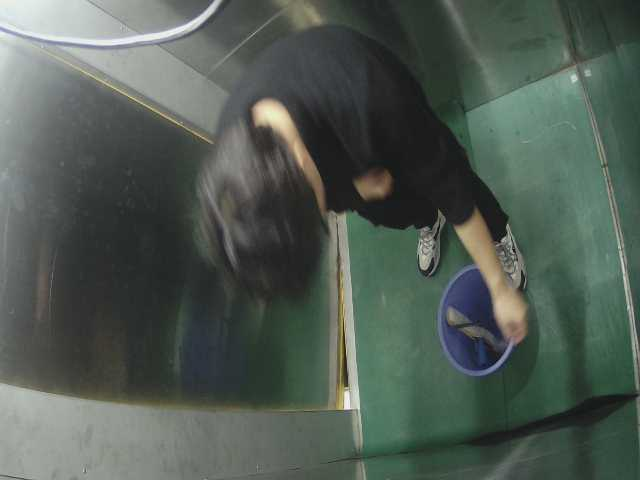bucket: (437, 259, 557, 377)
person: (190, 16, 527, 321)
